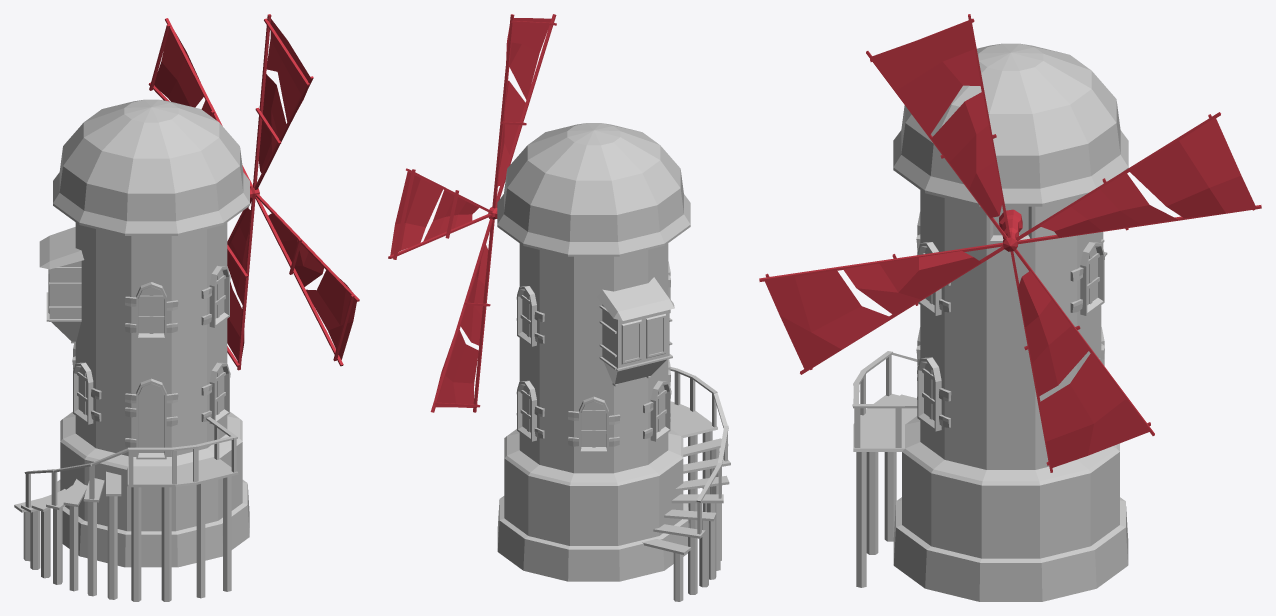
File: windmill_001.obj
3 renders of one model, left to right at view 1: azimuth 30°, elevation 25°; view 2: azimuth 150°, elevation 25°; view 3: azimuth 270°, elevation 25°, orthographic. The views are drawn at different scales.
Parts seen in each view (by area): view 1: mlyn_Circle, lopatky_Circle.003; view 2: mlyn_Circle, lopatky_Circle.003; view 3: mlyn_Circle, lopatky_Circle.003.
Boxes of the visible parts, box(x1,y1,x2,y2) form: mlyn_Circle: box(14, 99, 249, 601); lopatky_Circle.003: box(148, 14, 359, 370); mlyn_Circle: box(497, 123, 730, 601); lopatky_Circle.003: box(388, 14, 556, 412); mlyn_Circle: box(852, 43, 1128, 601); lopatky_Circle.003: box(759, 14, 1261, 472).
Bounding box in the file's own units: 5.22 × 11.3 × 8.28.
